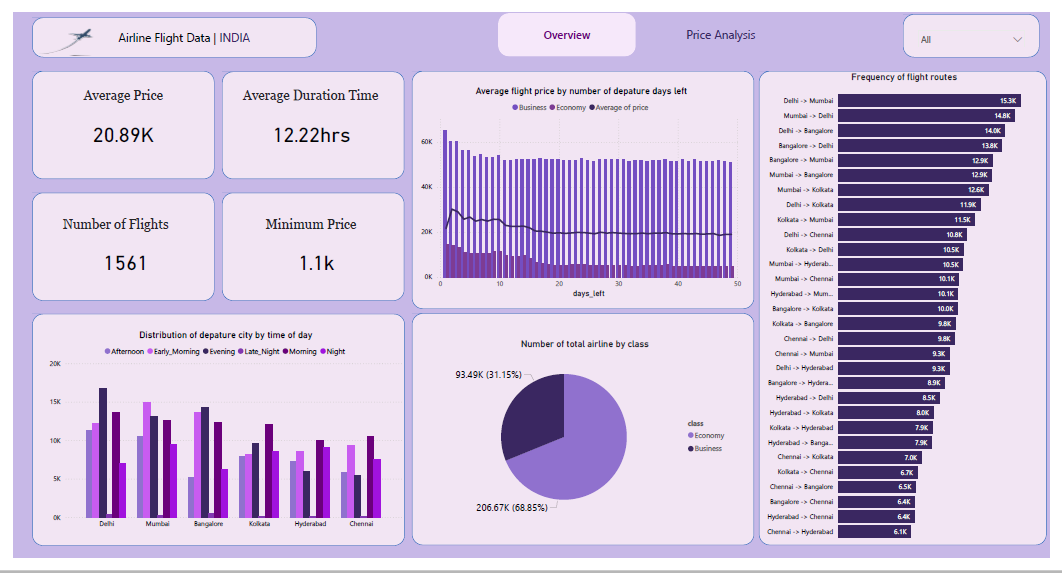

What the dashboard file says about the page in this screenshot:
{"tool":"powerbi","page":{"name":"Overview","canvas":[1900,1000],"ordinal":0},"visuals":[{"type":"shape","box":[731.2,552.1,627.1,425],"z":0},{"type":"shape","box":[731.2,108.3,627.1,435.4],"z":1000},{"type":"shape","box":[35.4,108.3,333.3,197.9],"z":2000},{"type":"shape","box":[383,108.5,334,197.9],"z":3000},{"type":"shape","box":[35.4,331.2,333.3,197.9],"z":4000},{"type":"shape","box":[383.3,331.2,333.3,197.9],"z":5000},{"type":"shape","box":[35,552.5,682.5,425],"z":6000},{"type":"shape","box":[1631.2,4.2,250,79.2],"z":7000},{"type":"shape","box":[35.4,10.4,520.8,72.9],"z":8000},{"type":"card","fields":{"Values":["Avg(airlines_flights_data.price)"]},"box":[93.8,177.1,216.7,89.6],"z":9000},{"type":"textbox","box":[83.3,135.4,237.5,41.7],"z":10000},{"type":"textbox","box":[187.5,27.1,287.5,39.6],"z":11000},{"type":"image","box":[35.4,0,125,108.3],"z":12000},{"type":"clusteredColumnChart","title":"Distribution of depature city by time of day","fields":{"Category":["airlines_flights_data.source_city"],"Y":["CountNonNull(airlines_flights_data.source_city)"],"Series":["airlines_flights_data (2).departure_time"]},"box":[62,582,656,374],"z":13000},{"type":"shape","box":[1366.7,108.3,527.1,868.8],"z":14000},{"type":"slicer","fields":{"Values":["airlines_flights_data.airline"]},"box":[1647.5,23.8,217.5,38.8],"z":15000},{"type":"pieChart","title":"Number of total airline by class","fields":{"Category":["airlines_flights_data.class"],"Y":["CountNonNull(airlines_flights_data.airline)"]},"box":[778.3,598.3,540,341.7],"z":16000},{"type":"barChart","title":"Frequency of flight routes","fields":{"Category":["airlines_flights_data.Route"],"Y":["CountNonNull(airlines_flights_data.Route)"]},"box":[1366,108.5,534,870.2],"z":17000},{"type":"lineClusteredColumnComboChart","title":"Average flight price by number of depature days left","fields":{"Category":["airlines_flights_data.days_left"],"Y2":["Avg(airlines_flights_data.price)"],"Y":["Avg(airlines_flights_data.price)"],"Series":["airlines_flights_data.class"]},"box":[743,135,597,394],"z":18000},{"type":"textbox","box":[402.1,134,287.2,57.4],"z":19000},{"type":"card","fields":{"Values":["airlines_flights_data.Avg_duration_hrs"]},"box":[438.3,176.6,217,89.4],"z":20000},{"type":"card","fields":{"Values":["Count(airlines_flights_data.flight)"]},"box":[98,412,216,88],"z":21000},{"type":"textbox","box":[70,370,236,42],"z":22000},{"type":"pageNavigator","box":[889.4,2.1,534,78.7],"z":23000},{"type":"card","fields":{"Values":["airlines_flights_data.Min_price"]},"box":[446.8,410.6,217,89.4],"z":24000},{"type":"textbox","box":[427.7,370.2,236.2,40.4],"z":25000}]}

Visuals, with their boxes in screenshot pixels (x1, y1, x2, y2), scaled from the page's 1900x1000 canvas onto the 1062x573 screenshot:
shape: (409,316,759,560)
shape: (409,62,759,312)
shape: (20,62,206,175)
shape: (214,62,401,176)
shape: (20,190,206,303)
shape: (214,190,401,303)
shape: (20,317,401,560)
shape: (912,2,1051,48)
shape: (20,6,311,48)
card - Avg(airlines_flights_data.price): (52,101,174,153)
textbox: (47,78,179,101)
textbox: (105,16,266,38)
image: (20,0,90,62)
"Distribution of depature city by time of day" clusteredColumnChart: (35,333,401,548)
shape: (764,62,1059,560)
slicer - airlines_flights_data.airline: (921,14,1042,36)
"Number of total airline by class" pieChart: (435,343,737,539)
"Frequency of flight routes" barChart: (764,62,1061,561)
"Average flight price by number of depature days left" lineClusteredColumnComboChart: (415,77,749,303)
textbox: (225,77,385,110)
card - airlines_flights_data.Avg_duration_hrs: (245,101,366,152)
card - Count(airlines_flights_data.flight): (55,236,176,286)
textbox: (39,212,171,236)
pageNavigator: (497,1,796,46)
card - airlines_flights_data.Min_price: (250,235,371,286)
textbox: (239,212,371,235)
